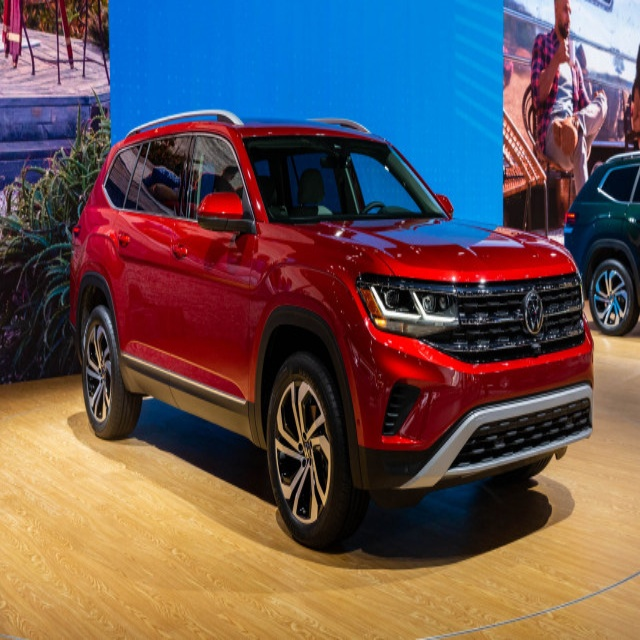Car: (70, 110, 595, 550)
